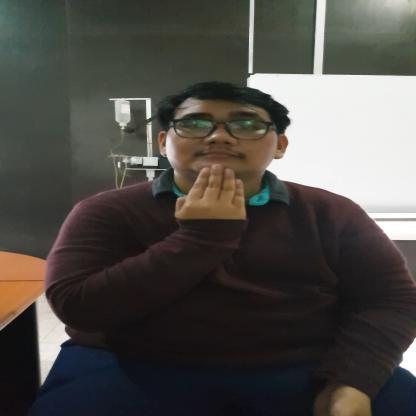Selamat-Terimakasih: (170, 160, 258, 241)
